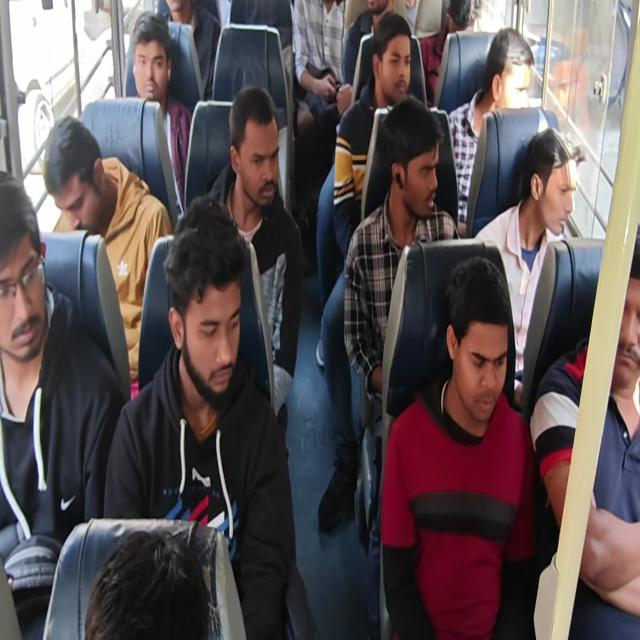person: (1, 1, 638, 638), (101, 194, 308, 638), (342, 94, 460, 636), (380, 255, 536, 638), (0, 170, 126, 638), (316, 11, 414, 530), (530, 227, 640, 625), (43, 116, 173, 400), (206, 84, 303, 460), (473, 126, 584, 408), (332, 12, 413, 259), (447, 27, 535, 230), (84, 528, 221, 638), (127, 11, 193, 213), (292, 0, 351, 139), (419, 0, 480, 107), (158, 0, 220, 99), (342, 0, 394, 88)
